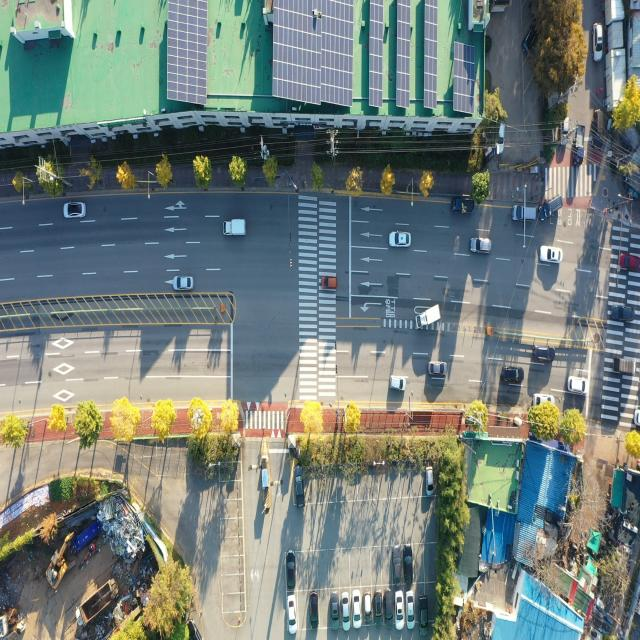car: (538, 195, 566, 223), (522, 22, 541, 58), (402, 544, 414, 587), (292, 463, 304, 506), (534, 341, 557, 362), (612, 303, 634, 324), (538, 245, 561, 264), (384, 587, 394, 629), (619, 252, 640, 272), (592, 22, 603, 60), (392, 544, 402, 585), (594, 108, 604, 148), (64, 202, 86, 220), (512, 205, 534, 223), (287, 594, 297, 632), (419, 594, 428, 635), (389, 232, 410, 249), (495, 121, 505, 156), (567, 378, 587, 395), (372, 590, 382, 624), (472, 238, 493, 254), (533, 394, 554, 410), (310, 592, 319, 628), (329, 591, 338, 627), (408, 591, 416, 630), (343, 592, 351, 630), (427, 360, 446, 376), (502, 366, 522, 381), (560, 117, 570, 146), (287, 552, 295, 588), (363, 589, 371, 625), (389, 376, 406, 392), (395, 591, 403, 625), (176, 276, 194, 290), (426, 466, 434, 496), (353, 592, 360, 626), (321, 276, 336, 290), (635, 407, 640, 426)
small_truck: (416, 303, 442, 332), (573, 121, 586, 166), (613, 358, 636, 378), (452, 195, 474, 215), (225, 218, 248, 236)
